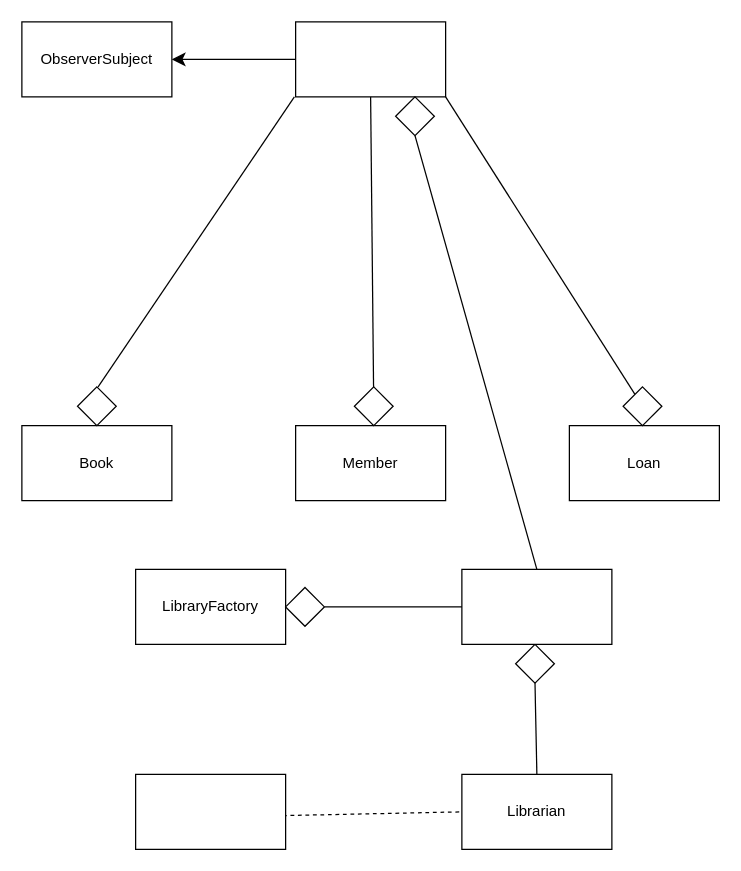
Some shapes in this 741 by 871 pixel diagram are drawn without their labels. The box of each missing label's shape, as (x1, y1, x2, y2) in pixels:
LibrarianFacade: (461, 568, 612, 644)
Library: (294, 21, 446, 97)
Observer: (134, 773, 286, 849)
